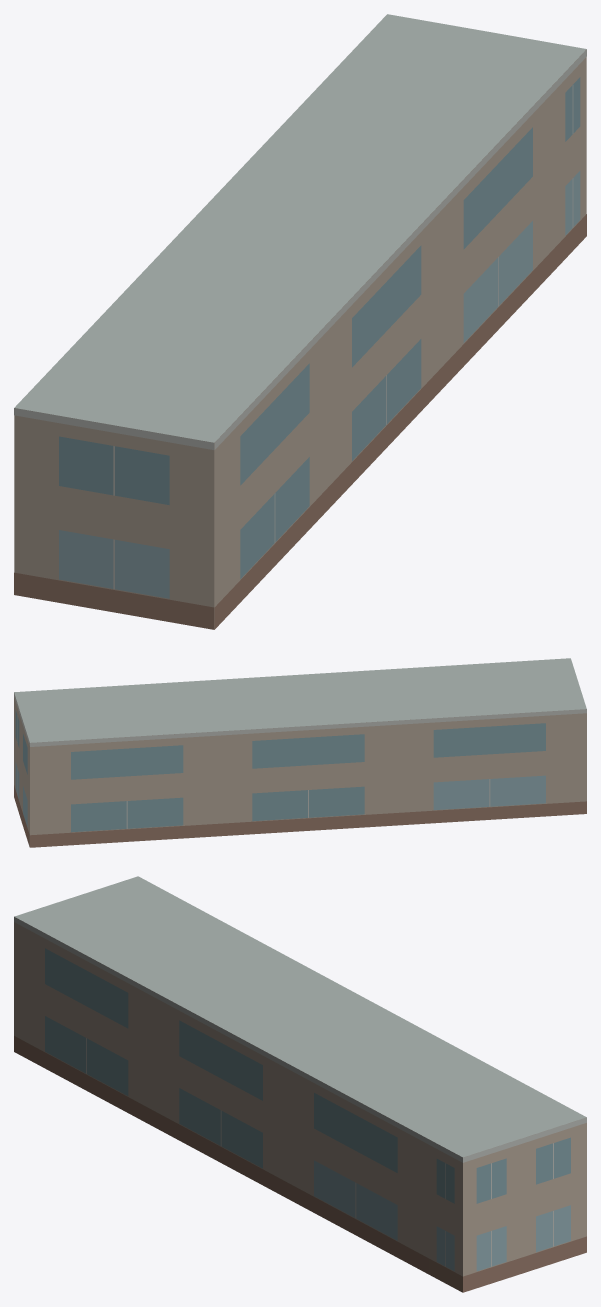
File: survey-upis-32582542.glb
3 renders of one model, top to bottom at view 1: azimuth 30°, elevation 25°; view 2: azimuth 150°, elevation 25°; view 3: azimuth 270°, elevation 25°, orthographic. The views are drawn at different scales.
Visible parts, largest first — view 1: survey-upis-32582542.tmp; view 2: survey-upis-32582542.tmp; view 3: survey-upis-32582542.tmp.
Boxes of the visible parts, x1,y1,x2,y2 form: survey-upis-32582542.tmp: [14, 14, 586, 629]; survey-upis-32582542.tmp: [14, 658, 586, 847]; survey-upis-32582542.tmp: [14, 876, 586, 1292].
Bounding box in the file's own units: 27.21 × 6.1 × 23.42.
